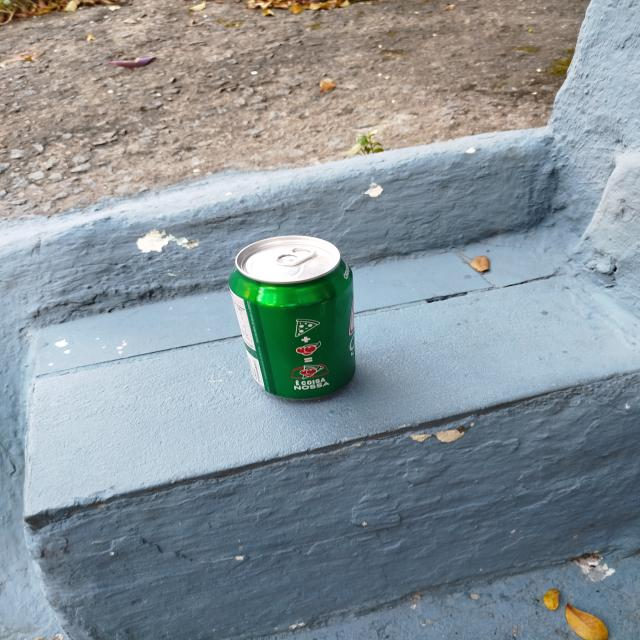Guarana: (230, 236, 357, 400)
